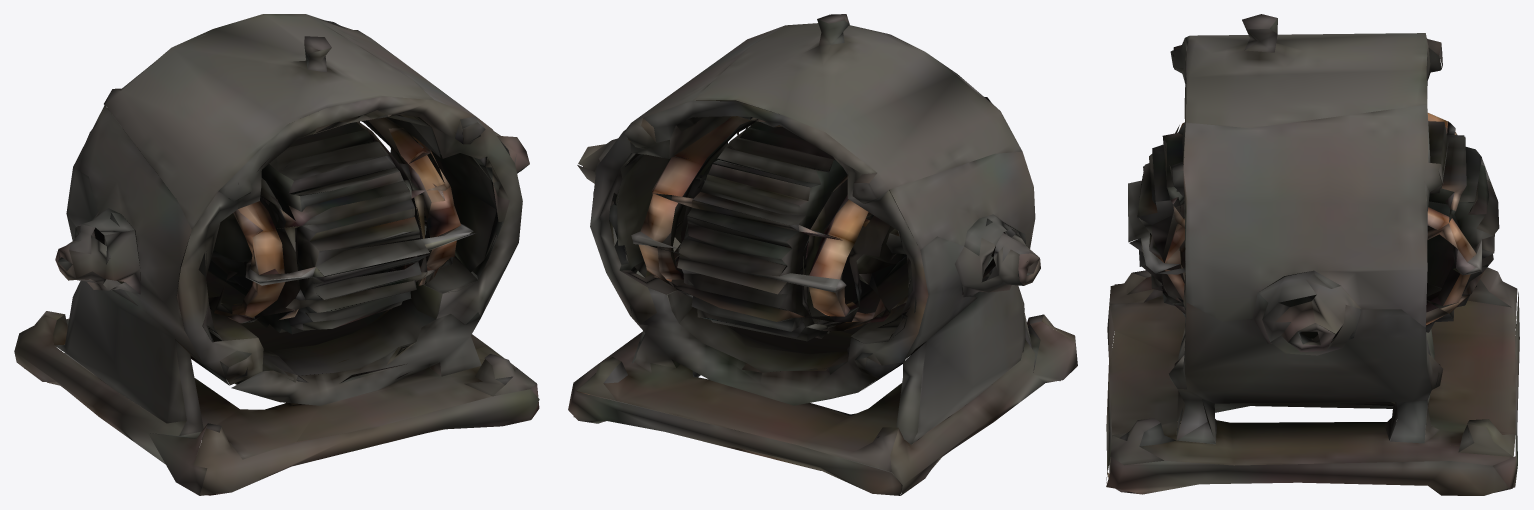
Rendered from motor_abierto.movil.glb.
3 views of the same model, side by side, from view 1: azimuth 30°, elevation 25°; view 2: azimuth 150°, elevation 25°; view 3: azimuth 270°, elevation 25° (orthographic). The views are drawn at different scales.
Visible parts, largest first — view 1: geometry_0; view 2: geometry_0; view 3: geometry_0.
Part boxes in pixels (x1,y1,x2,y2): geometry_0: [14, 14, 539, 495]; geometry_0: [568, 14, 1077, 495]; geometry_0: [1106, 14, 1519, 495].
Bounding box in the file's own units: 0.55 × 0.4177 × 0.3996.
Materials: 1 (1 with a texture image).
